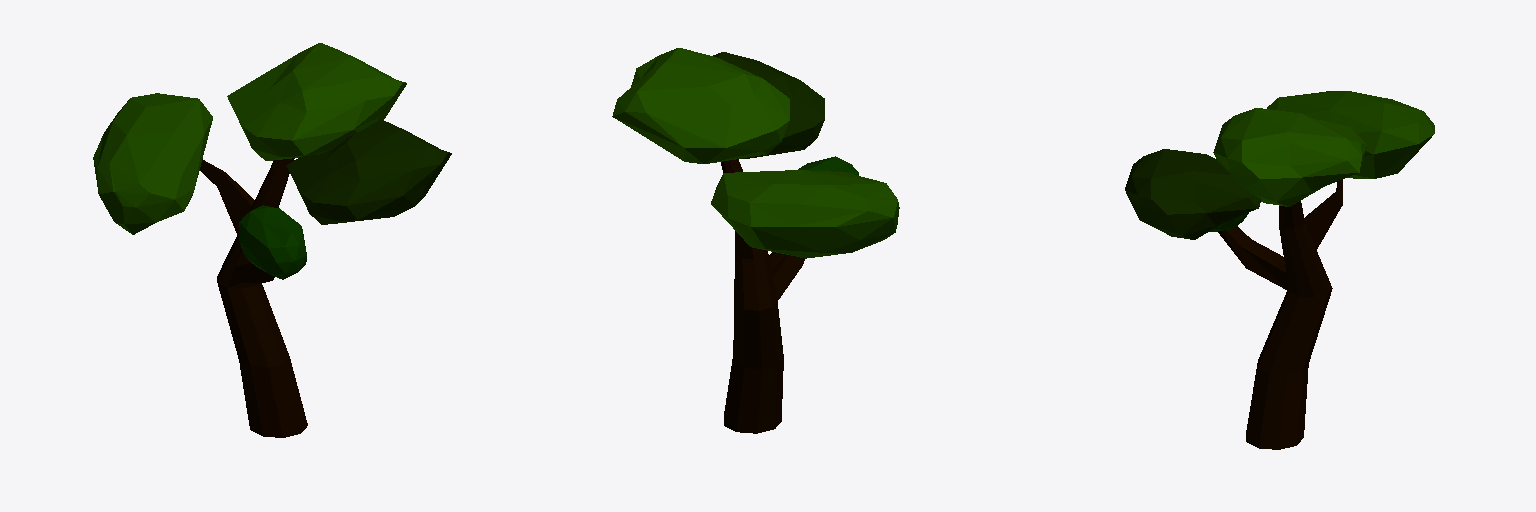
Rendered from tree_1.obj.
3 renders of one model, left to right at view 1: azimuth 30°, elevation 25°; view 2: azimuth 150°, elevation 25°; view 3: azimuth 270°, elevation 25°, orthographic.
Visible parts, largest first — view 1: Icosphere.001; view 2: Icosphere.001; view 3: Icosphere.001.
Part boxes in pixels (bbox=[...]): Icosphere.001: bbox=[93, 43, 451, 437]; Icosphere.001: bbox=[612, 48, 899, 433]; Icosphere.001: bbox=[1125, 91, 1434, 449].
Size of the model in its own units: 10.92 by 12.69 by 10.38.